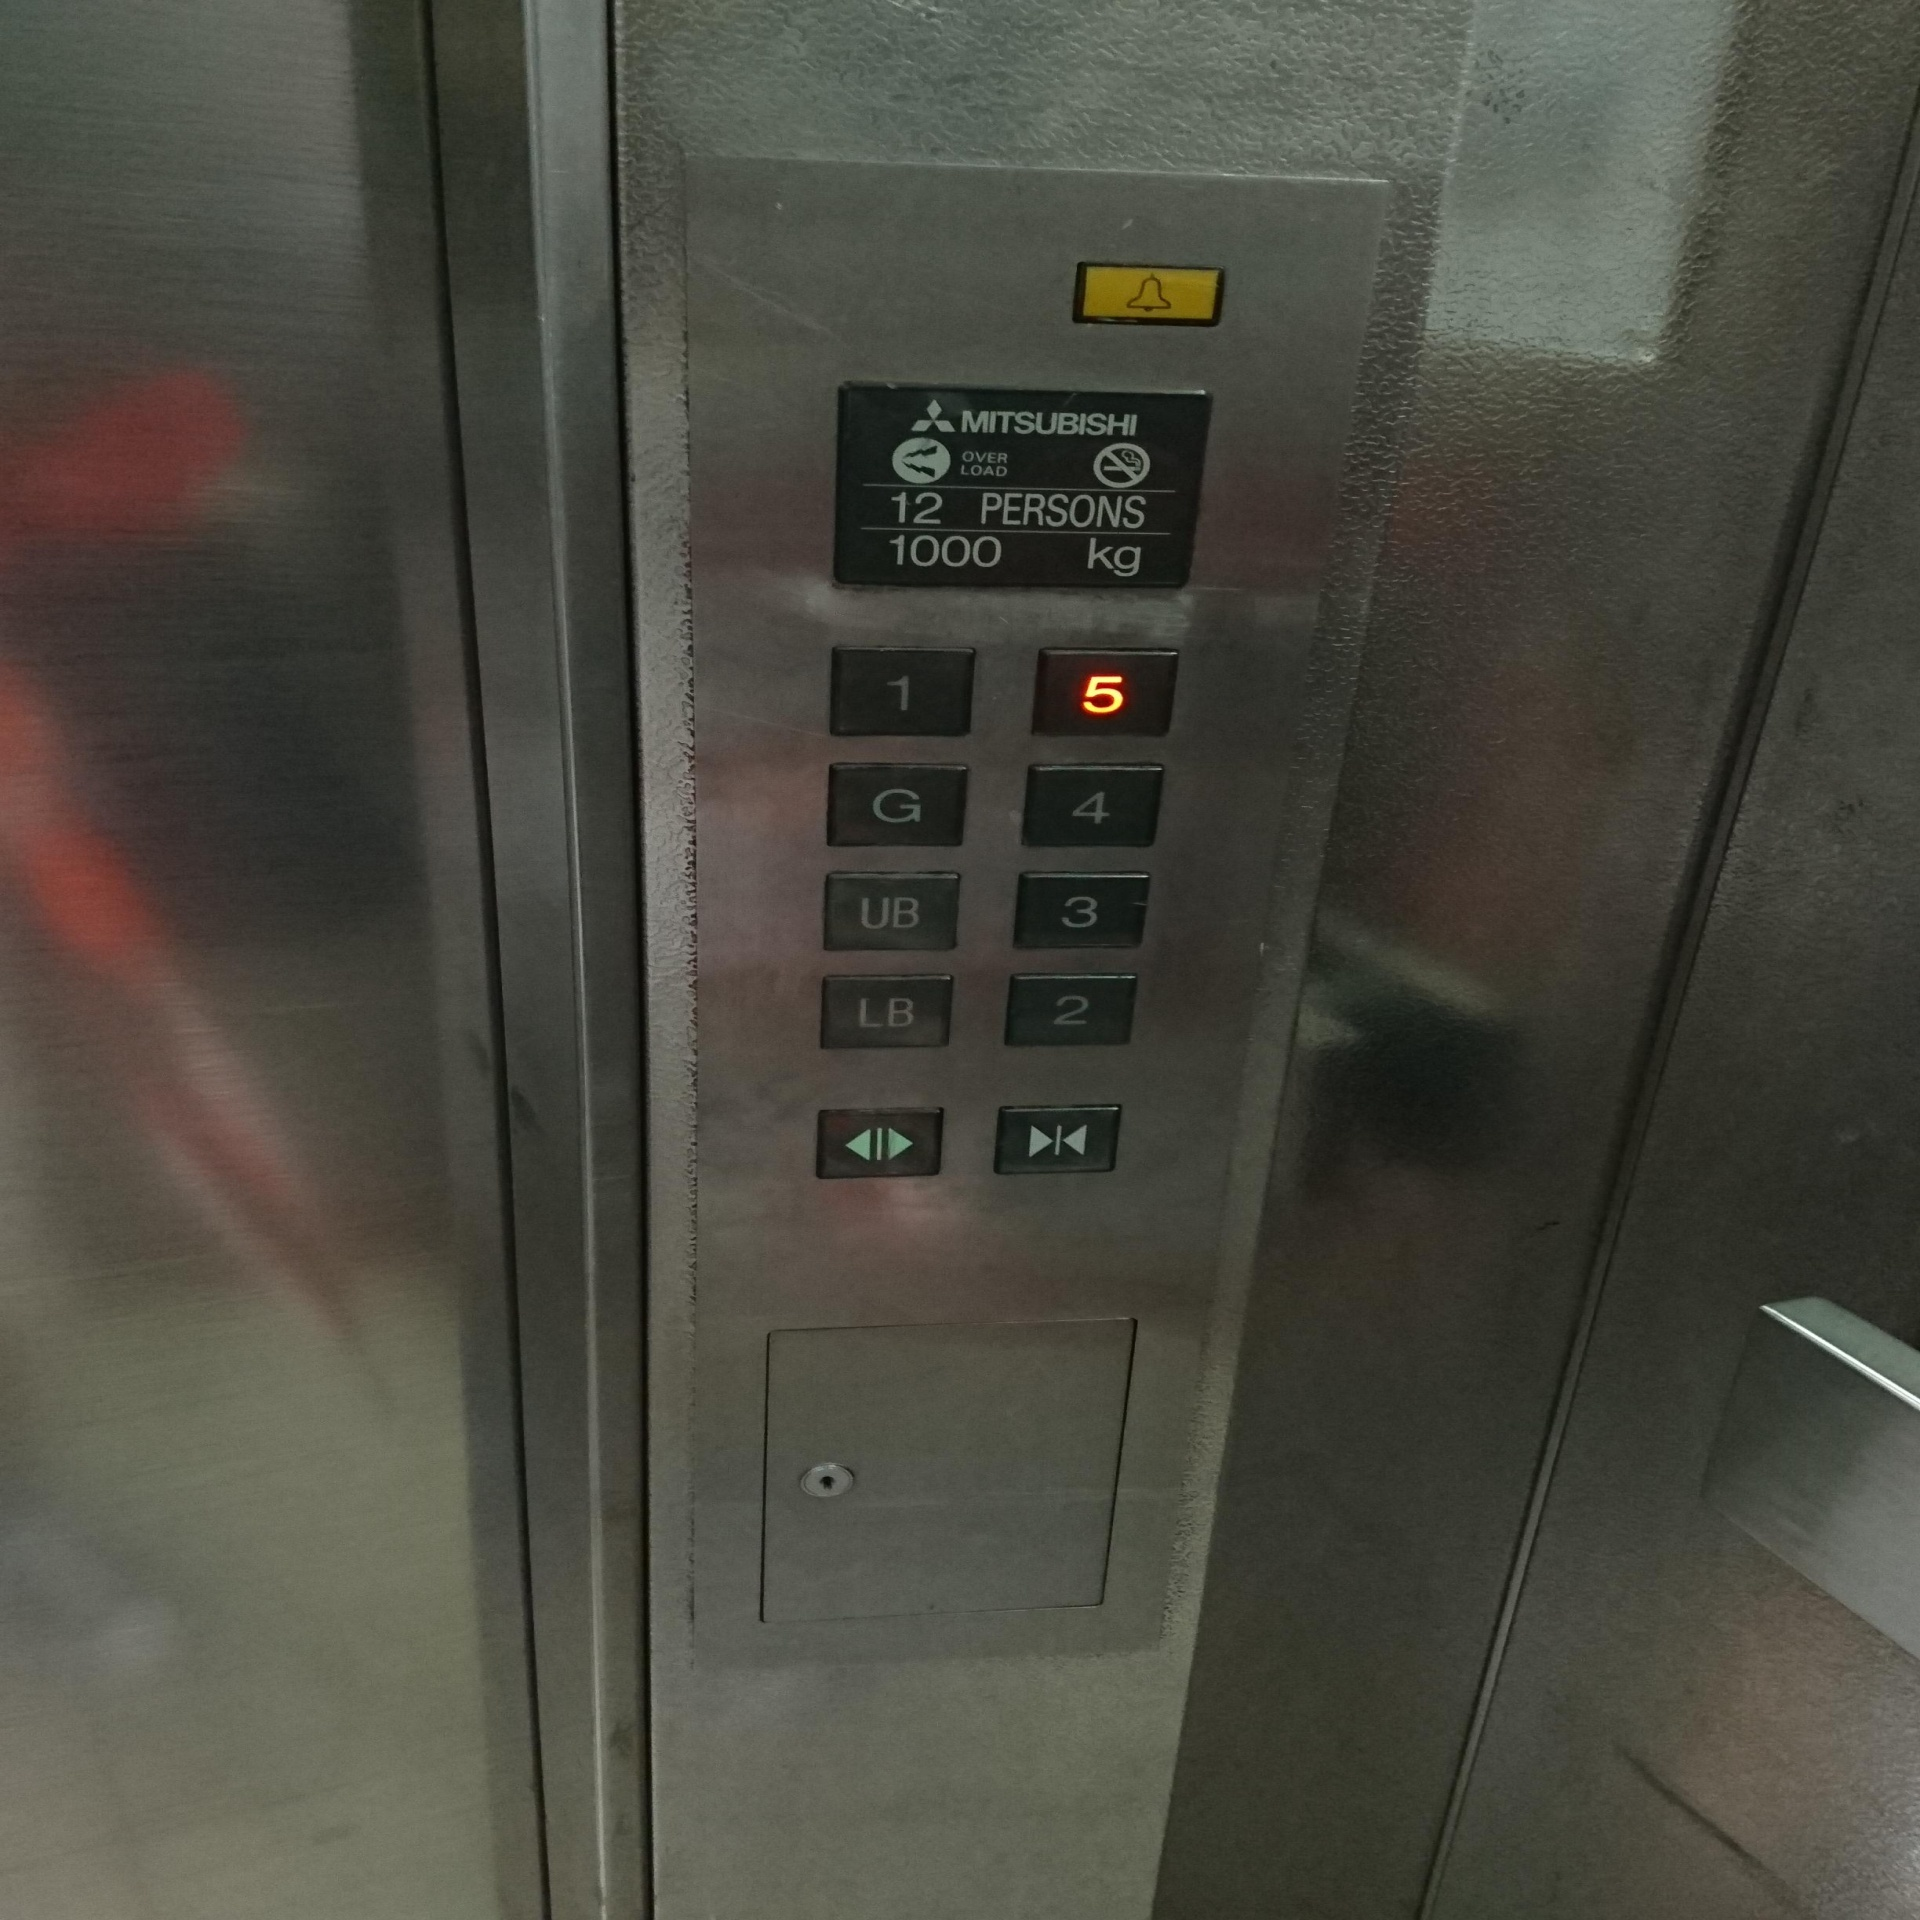1: (823, 642, 981, 744)
2: (995, 969, 1146, 1055)
3: (1006, 867, 1157, 955)
4: (1013, 760, 1173, 849)
5: (1027, 642, 1185, 742)
G: (819, 758, 976, 853)
LB: (814, 969, 962, 1057)
UB: (819, 869, 967, 955)
alarm: (1073, 262, 1225, 327)
close: (988, 1101, 1127, 1182)
keyhole: (798, 1465, 855, 1496)
open: (814, 1101, 949, 1183)
